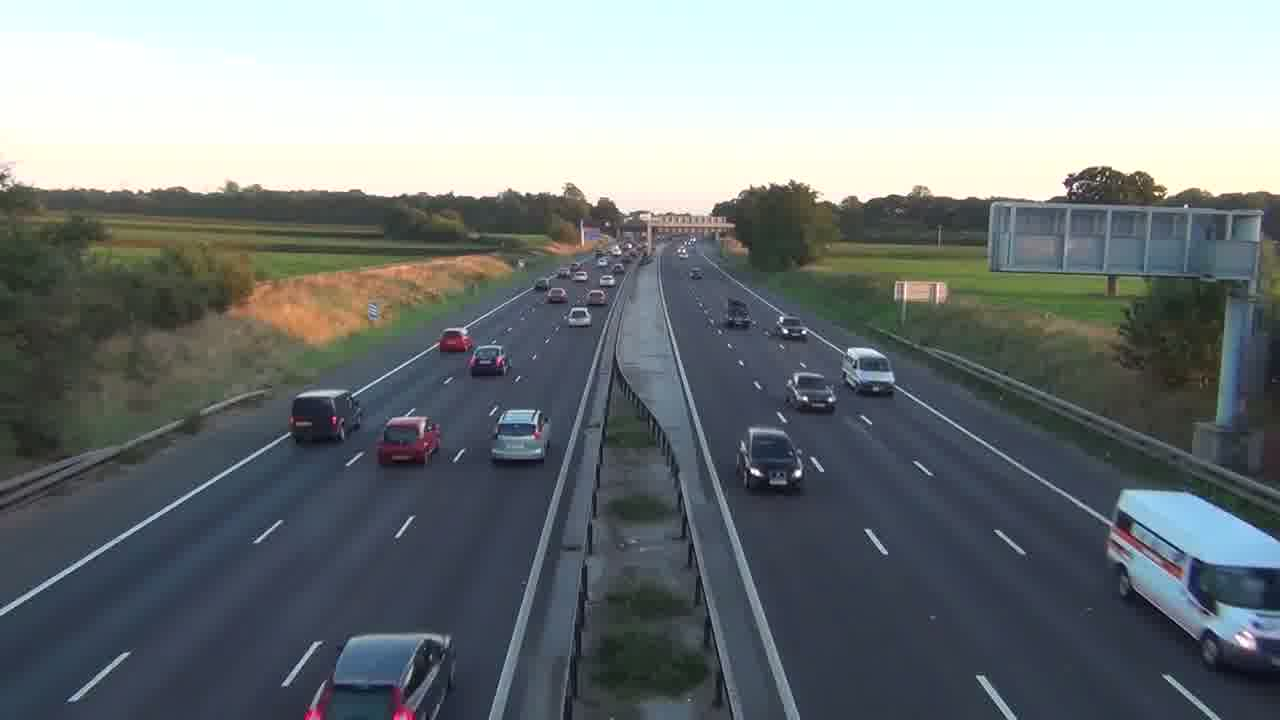car: (303, 631, 456, 719), (736, 426, 805, 493), (376, 413, 443, 466), (491, 408, 551, 464), (840, 346, 896, 397), (783, 370, 838, 413), (467, 343, 509, 377), (439, 327, 475, 353), (565, 305, 591, 327)
truck: (1104, 488, 1280, 674)
